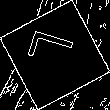L_E: (26, 33, 84, 77)
